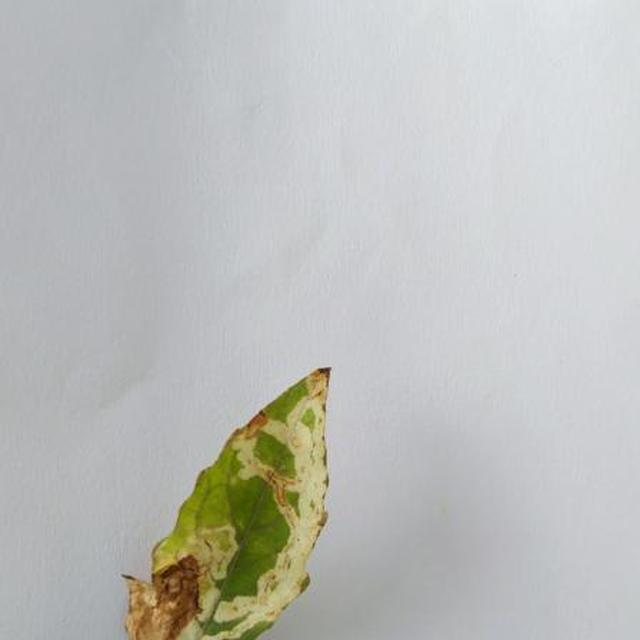Leaf Miner: (167, 435, 478, 640)
